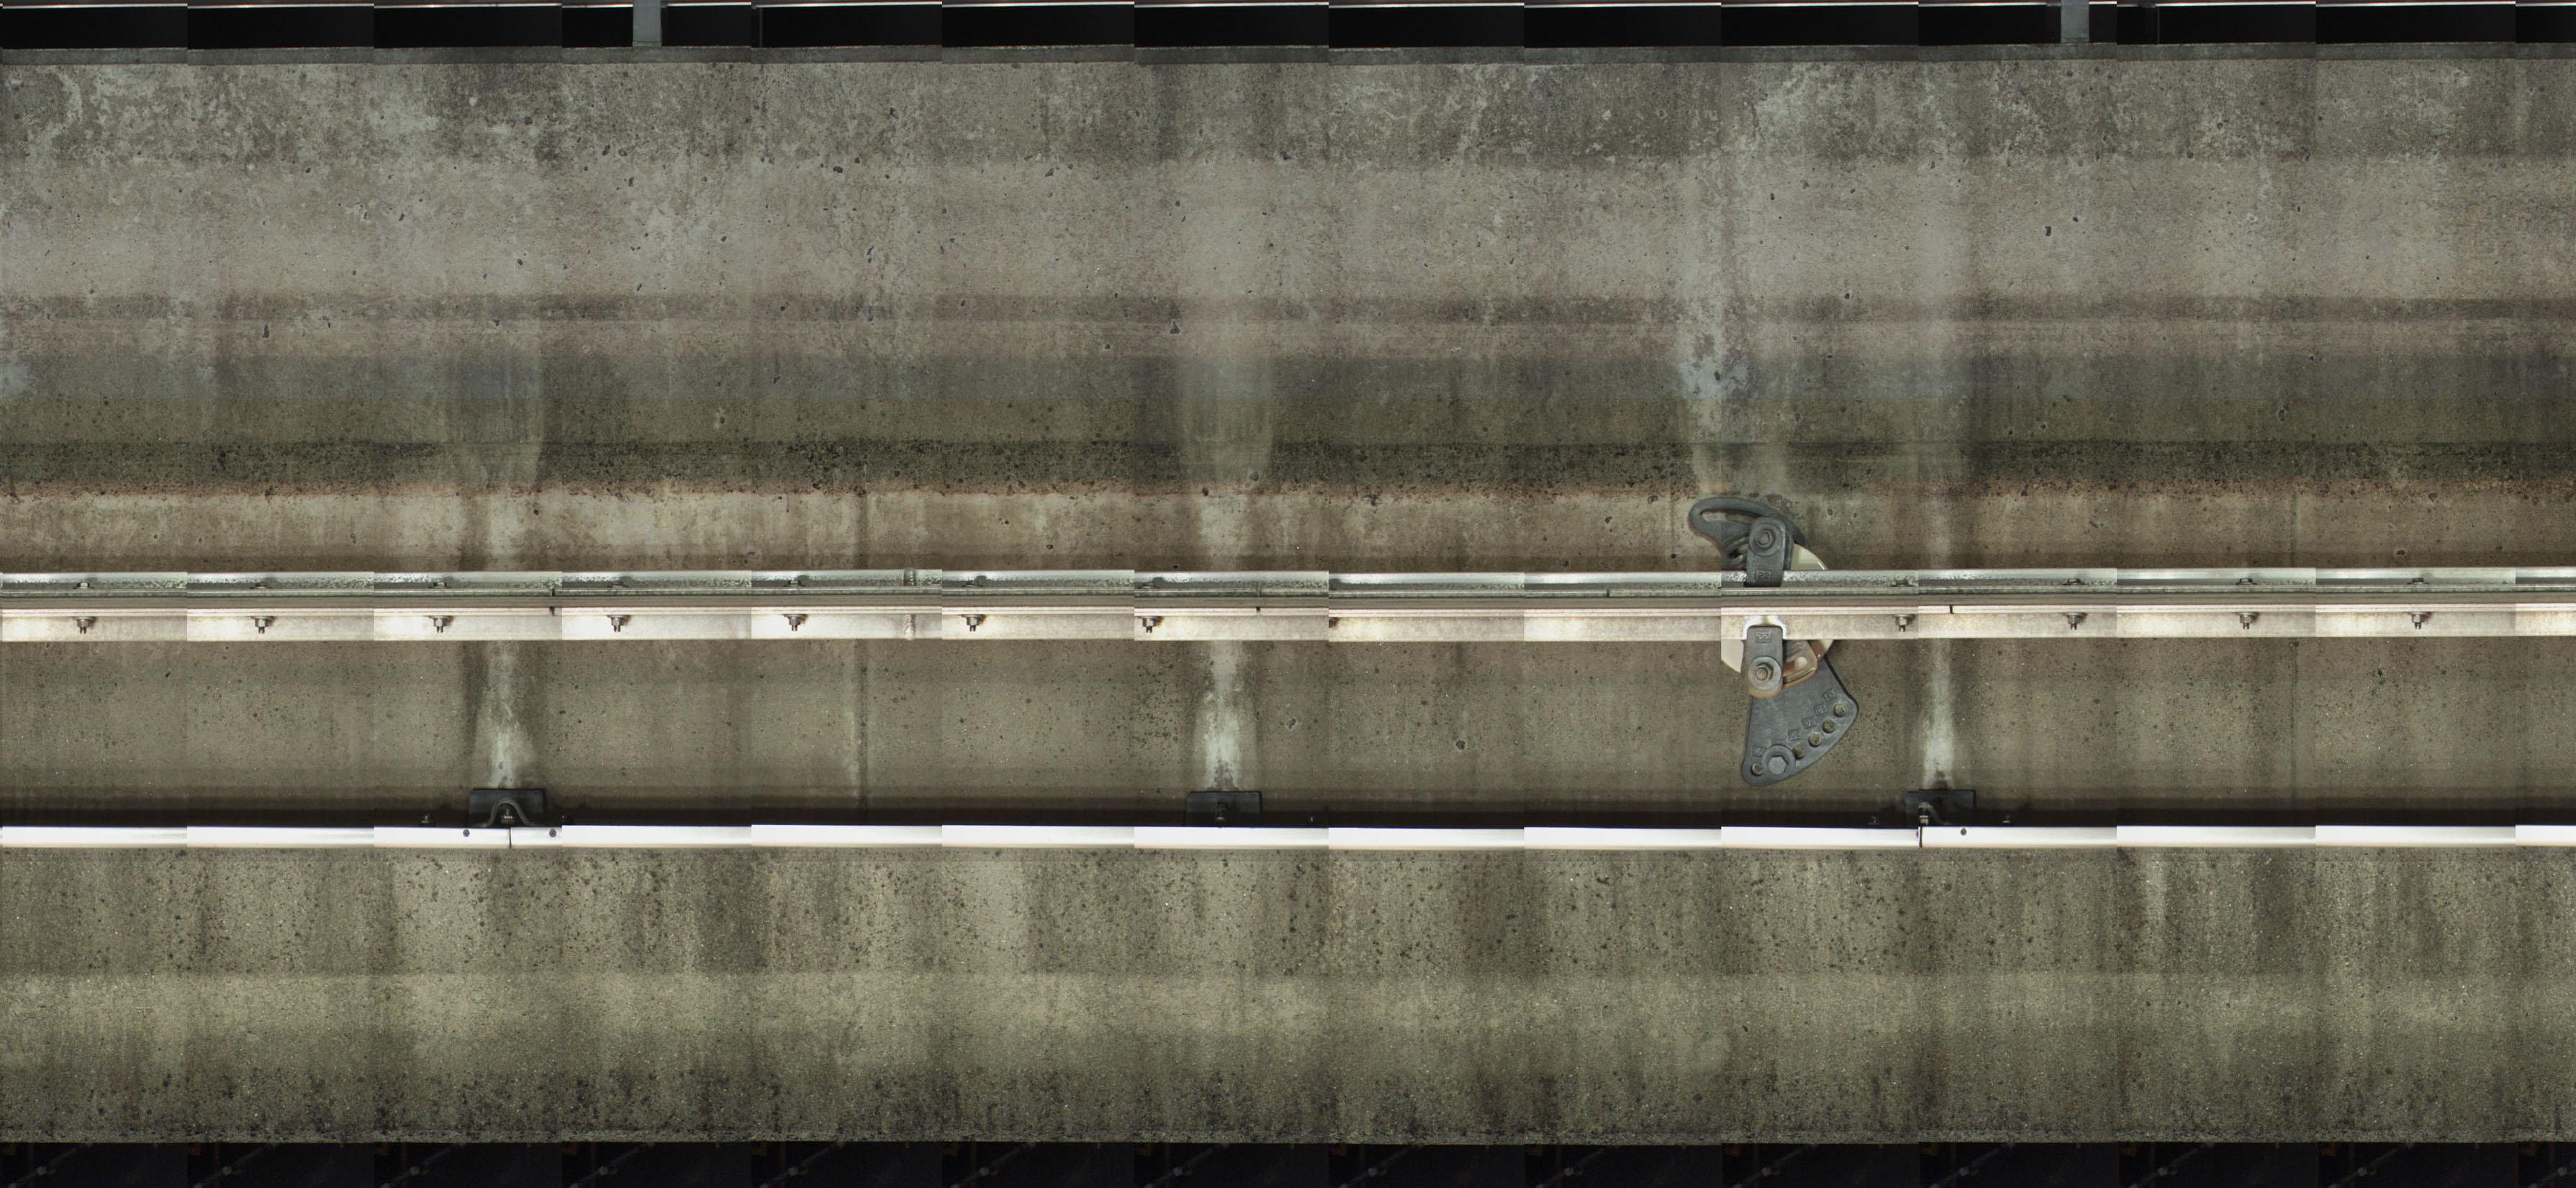concrete: (0, 58, 2566, 575), (7, 638, 2566, 1135)
